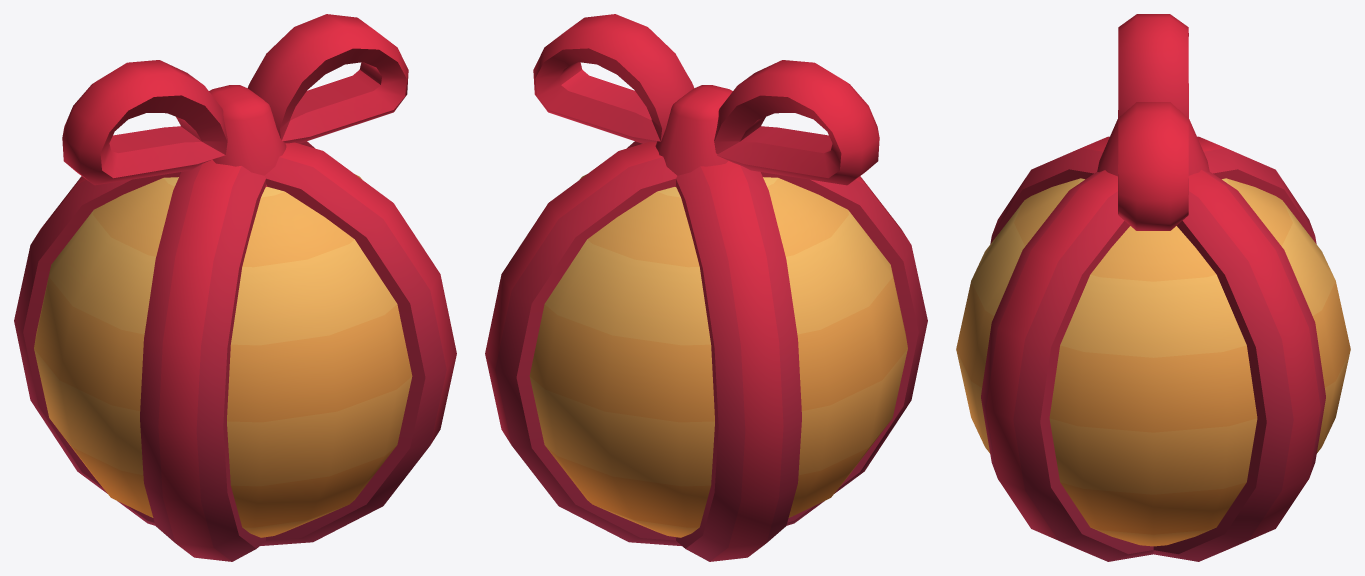
The model's file is present_sphere_A_yellow.obj.
3 renders of one model, left to right at view 1: azimuth 30°, elevation 25°; view 2: azimuth 150°, elevation 25°; view 3: azimuth 270°, elevation 25°, orthographic. The views are drawn at different scales.
Visible parts, largest first — view 1: present_sphere_A_yellow; view 2: present_sphere_A_yellow; view 3: present_sphere_A_yellow.
Part boxes in pixels (box(x1,y1,x2,y2)): present_sphere_A_yellow: box(14, 14, 456, 561); present_sphere_A_yellow: box(485, 14, 927, 561); present_sphere_A_yellow: box(956, 14, 1350, 561).
Size of the model in its own units: 0.5576 by 0.7501 by 0.5576.
1 material, 1 textured.
